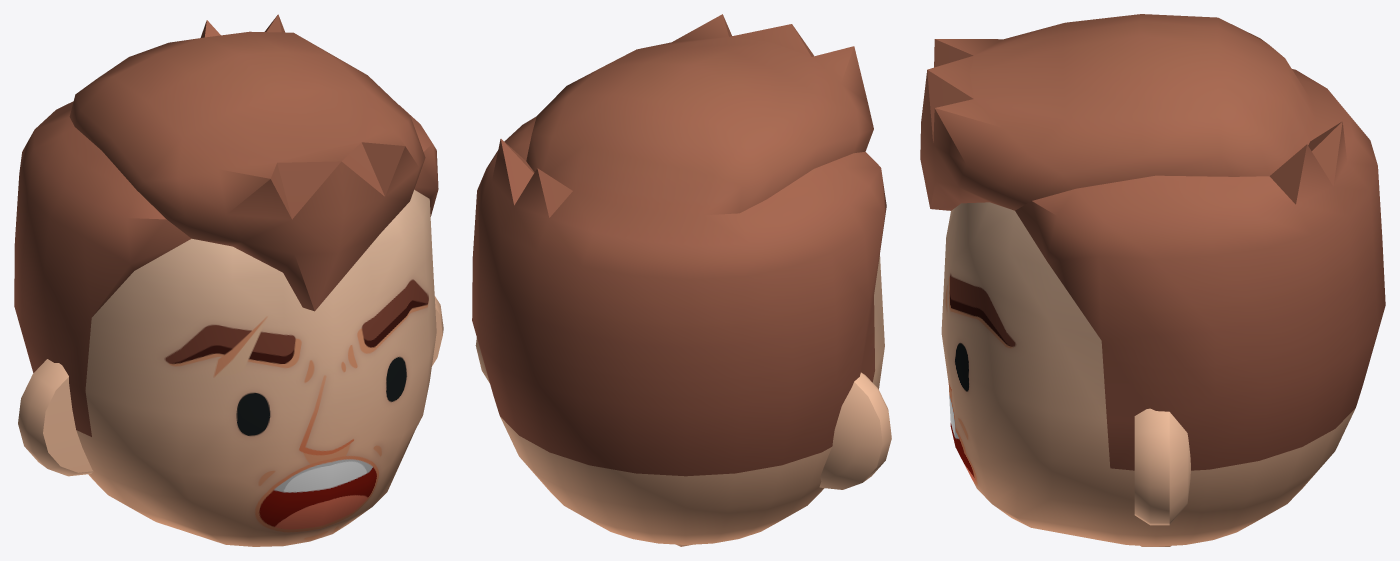
File: ActionFigure_Head_B.obj
3 renders of one model, left to right at view 1: azimuth 30°, elevation 25°; view 2: azimuth 150°, elevation 25°; view 3: azimuth 270°, elevation 25°, orthographic. The views are drawn at different scales.
Parts seen in each view (by area): view 1: ActionFigure_Head_B; view 2: ActionFigure_Head_B; view 3: ActionFigure_Head_B.
Boxes of the visible parts, x1,y1,x2,y2 form: ActionFigure_Head_B: [14, 14, 443, 546]; ActionFigure_Head_B: [472, 14, 891, 546]; ActionFigure_Head_B: [920, 14, 1385, 546].
Size of the model in its own units: 1.09 by 1.2 by 0.9985.
Materials: 2 (2 with a texture image).
